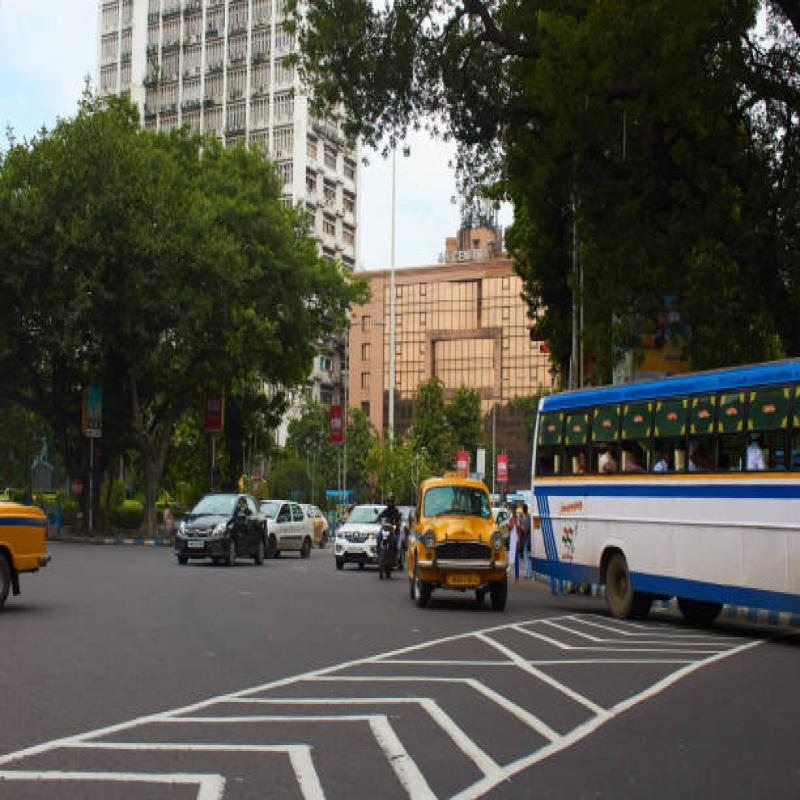bus: (528, 366, 800, 614)
car: (394, 477, 505, 594), (172, 487, 260, 567), (340, 484, 397, 568)
